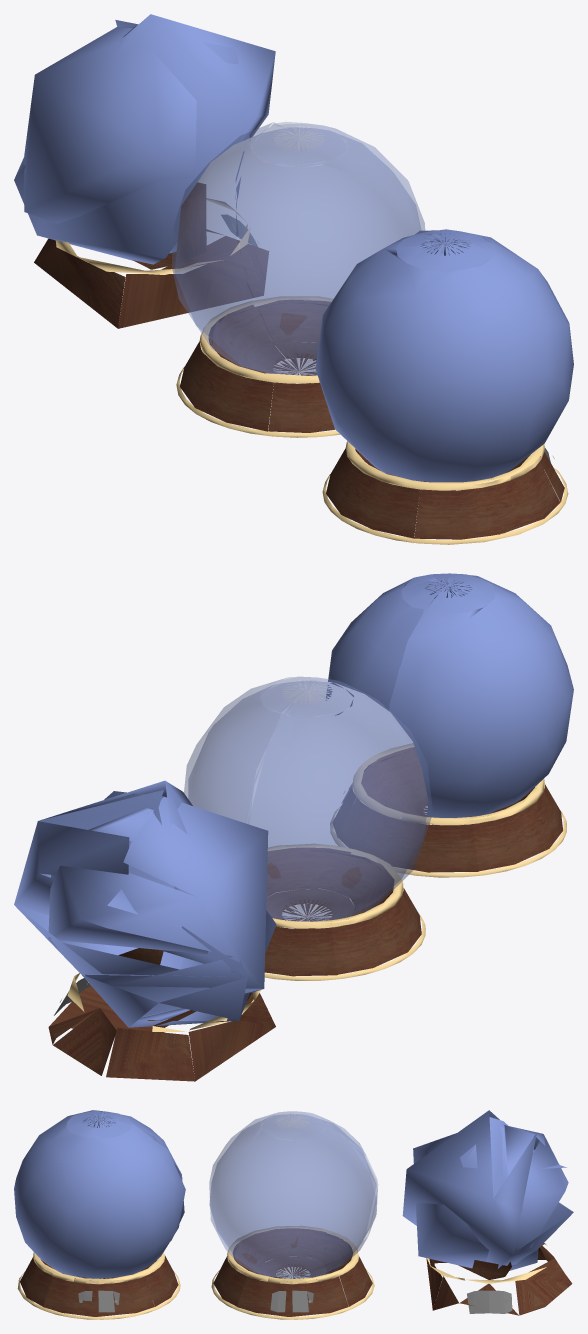
Rendered from crystal_ball.glb.
3 renders of one model, top to bottom at view 1: azimuth 30°, elevation 25°; view 2: azimuth 150°, elevation 25°; view 3: azimuth 270°, elevation 25°, orthographic. The views are drawn at different scales.
Visible parts, largest first — view 1: Clean_crystalball_Glass_clean_0, Low_crystalball_Glass_clean_0, Worn_Crystal_ball_Glass_worn_0, Worn_holder_WoodFineDark004_3K_0, Low_screw_left_WoodFineDark004_3K_0, Clean_Holder_WoodFineDark004_3K_0, Clean_Holder_Gold_0, Worn_holder_Gold_0, Low_screw_left_Gold_0; view 2: Low_crystalball_Glass_clean_0, Worn_Crystal_ball_Glass_worn_0, Clean_crystalball_Glass_clean_0, Worn_holder_WoodFineDark004_3K_0, Clean_Holder_WoodFineDark004_3K_0, Low_screw_left_WoodFineDark004_3K_0, Clean_Holder_Gold_0, Worn_holder_Gold_0, Low_screw_left_Gold_0; view 3: Clean_crystalball_Glass_clean_0, Worn_Crystal_ball_Glass_worn_0, Low_crystalball_Glass_clean_0, Worn_holder_WoodFineDark004_3K_0, Clean_Holder_WoodFineDark004_3K_0, Low_screw_left_WoodFineDark004_3K_0, Worn_holder_Gold_0, Clean_Holder_Gold_0, Low_name_plate.001_Silver_clean_0, Worn_plate_Silver_0, Clean_name_plate_Silver_clean_0, Low_screw_left_Gold_0.
Boxes of the visible parts, bbox=[...] form: Clean_crystalball_Glass_clean_0: bbox=[315, 229, 573, 482]; Low_crystalball_Glass_clean_0: bbox=[14, 14, 275, 264]; Worn_Crystal_ball_Glass_worn_0: bbox=[172, 122, 424, 375]; Worn_holder_WoodFineDark004_3K_0: bbox=[180, 300, 334, 432]; Low_screw_left_WoodFineDark004_3K_0: bbox=[34, 182, 268, 328]; Clean_Holder_WoodFineDark004_3K_0: bbox=[326, 448, 564, 539]; Clean_Holder_Gold_0: bbox=[322, 441, 568, 544]; Worn_holder_Gold_0: bbox=[176, 296, 340, 437]; Low_screw_left_Gold_0: bbox=[55, 198, 250, 274]; Low_crystalball_Glass_clean_0: bbox=[14, 780, 276, 1027]; Worn_Crystal_ball_Glass_worn_0: bbox=[184, 677, 432, 921]; Clean_crystalball_Glass_clean_0: bbox=[326, 573, 573, 817]; Worn_holder_WoodFineDark004_3K_0: bbox=[264, 848, 421, 976]; Clean_Holder_WoodFineDark004_3K_0: bbox=[332, 747, 562, 872]; Low_screw_left_WoodFineDark004_3K_0: bbox=[48, 948, 275, 1081]; Clean_Holder_Gold_0: bbox=[330, 743, 566, 877]; Worn_holder_Gold_0: bbox=[264, 844, 425, 980]; Low_screw_left_Gold_0: bbox=[67, 973, 260, 1031]; Clean_crystalball_Glass_clean_0: bbox=[14, 1110, 185, 1280]; Worn_Crystal_ball_Glass_worn_0: bbox=[209, 1111, 377, 1280]; Low_crystalball_Glass_clean_0: bbox=[402, 1110, 573, 1270]; Worn_holder_WoodFineDark004_3K_0: bbox=[213, 1228, 372, 1316]; Clean_Holder_WoodFineDark004_3K_0: bbox=[20, 1256, 178, 1316]; Low_screw_left_WoodFineDark004_3K_0: bbox=[426, 1243, 572, 1315]; Worn_holder_Gold_0: bbox=[211, 1226, 374, 1319]; Clean_Holder_Gold_0: bbox=[17, 1252, 180, 1319]; Low_name_plate.001_Silver_clean_0: bbox=[467, 1290, 512, 1313]; Worn_plate_Silver_0: bbox=[270, 1290, 313, 1312]; Clean_name_plate_Silver_clean_0: bbox=[78, 1290, 119, 1312]; Low_screw_left_Gold_0: bbox=[427, 1243, 546, 1283].
Size of the model in its own units: 223 by 227 by 648.
6 materials, 1 textured.
